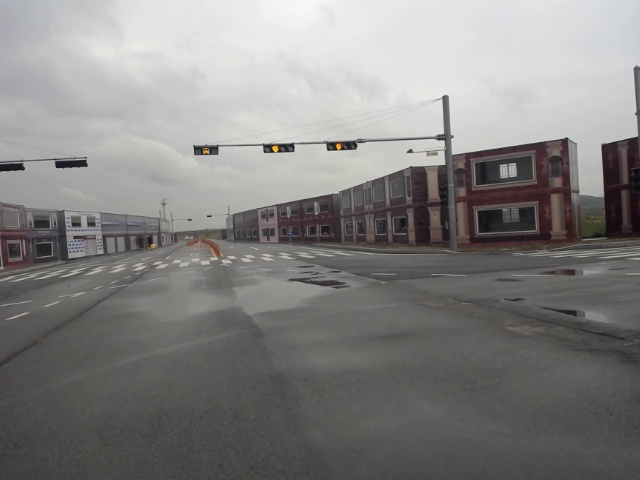orange_4: (326, 140, 357, 152), (262, 143, 295, 154)
